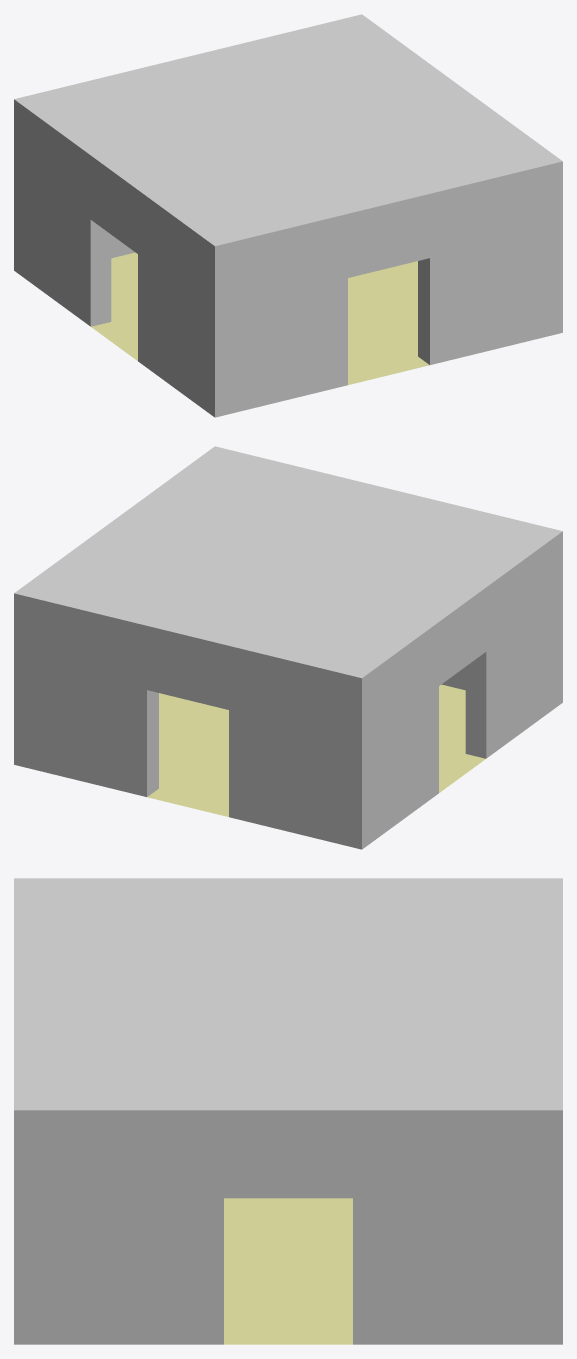
The model's file is RaumMitBodenTextur.fbx.
3 renders of one model, top to bottom at view 1: azimuth 30°, elevation 25°; view 2: azimuth 150°, elevation 25°; view 3: azimuth 270°, elevation 25°, orthographic. The views are drawn at different scales.
Parts seen in each view (by area): view 1: Dach, WandLinksRechts, WandLinksLinks, WandHintenLinks, Plane, WandHintenRechts, EckeHintenRechts, TürrahmenLinks, EckeVorneLinks, TürrahmenHinten, EckeHintenLinks; view 2: Dach, WandRechtsLinks, WandRechtsRechts, WandHintenRechts, Plane, WandHintenLinks, EckeHintenLinks, TürrahmenRechts, EckeVorneRechts, TürrahmenHinten, EckeHintenRechts; view 3: Dach, WandVorneRechts, WandVorneLinks, Plane, TürrahmenVorne, EckeVorneLinks, EckeVorneRechts.
Part boxes in pixels (box(x1,y1,x2,y2)): Dach: box(14, 14, 562, 267); WandLinksRechts: box(418, 188, 542, 364); WandLinksLinks: box(235, 235, 347, 412); WandHintenLinks: box(25, 129, 111, 326); Plane: box(91, 252, 429, 384); WandHintenRechts: box(138, 211, 202, 408); EckeHintenRechts: box(203, 259, 235, 417); TürrahmenLinks: box(348, 215, 429, 277); EckeVorneLinks: box(542, 183, 562, 337); TürrahmenHinten: box(90, 177, 137, 253); EckeHintenLinks: box(14, 121, 25, 278); Dach: box(14, 446, 562, 699); WandRechtsLinks: box(34, 620, 158, 796); WandRechtsRechts: box(229, 667, 341, 844); WandHintenRechts: box(465, 561, 551, 758); Plane: box(147, 684, 485, 816); WandHintenLinks: box(374, 643, 438, 840); EckeHintenLinks: box(341, 691, 373, 849); TürrahmenRechts: box(147, 647, 228, 709); EckeVorneRechts: box(14, 615, 34, 769); TürrahmenHinten: box(439, 609, 486, 685); EckeHintenRechts: box(551, 553, 562, 710); Dach: box(14, 878, 562, 1139); WandVorneRechts: box(353, 1139, 530, 1344); WandVorneLinks: box(46, 1139, 223, 1344); Plane: box(224, 1198, 352, 1344); TürrahmenVorne: box(224, 1139, 352, 1198); EckeVorneLinks: box(14, 1139, 46, 1344); EckeVorneRechts: box(530, 1139, 562, 1344).
Bounding box in the file's own units: 1700 × 800 × 1700.
